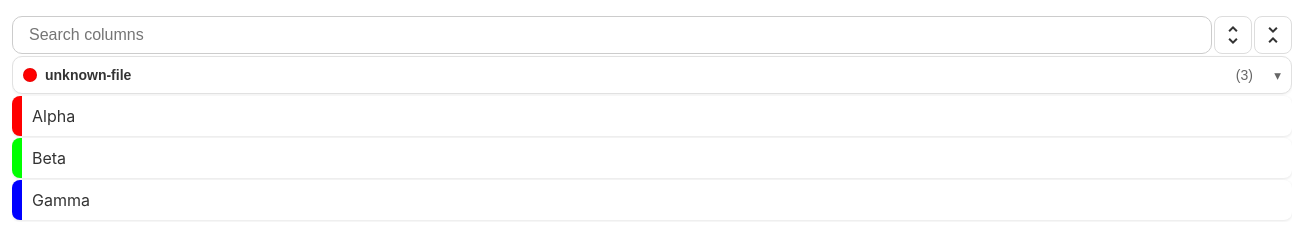
Test: <ColumnSearchList /> › shows empty state when no columns match search
Type "xyz" into the search field with placeholder "Search columns" at {"x": 612, "y": 35}, box [12,16,1212,54]
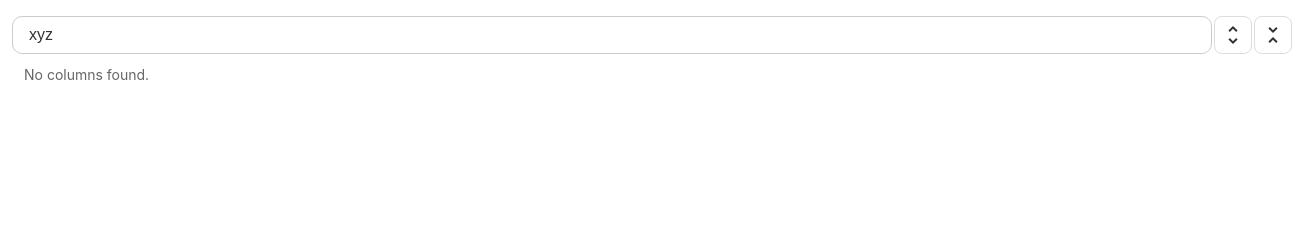
Now the text "No columns found." is shown, box [24,66,149,83]
